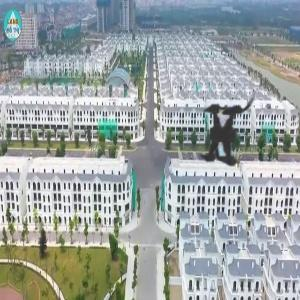drone: (144, 61, 300, 217)
